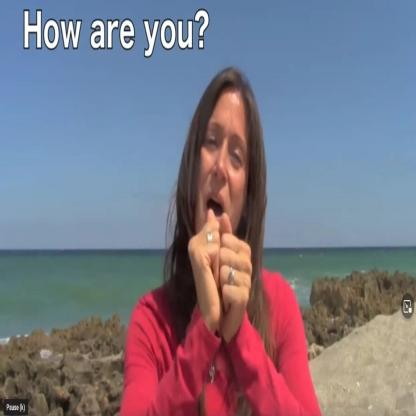HowAreYou: (180, 213, 253, 337)
